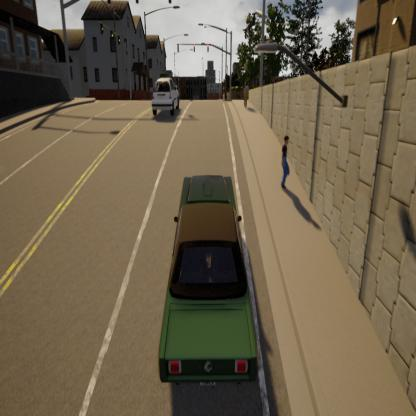Cars: (149, 126, 271, 416), (140, 56, 192, 134)
Pedestrian: (273, 122, 300, 217)
